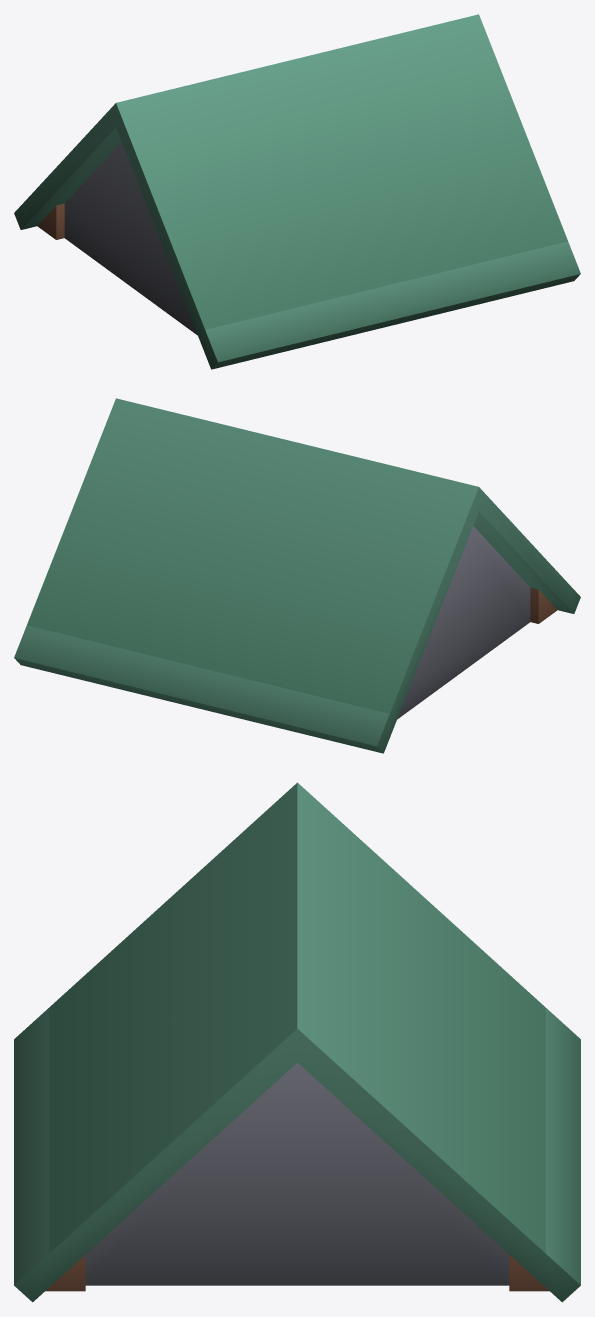
The model's file is roof-gable.glb.
3 views of the same model, one above another, from view 1: azimuth 30°, elevation 25°; view 2: azimuth 150°, elevation 25°; view 3: azimuth 270°, elevation 25° (orthographic). The views are drawn at different scales.
Parts seen in each view (by area): view 1: roof-gable; view 2: roof-gable; view 3: roof-gable.
Boxes of the visible parts, x1,y1,x2,y2 form: roof-gable: (14,14,580,369); roof-gable: (14,398,580,753); roof-gable: (14,782,580,1302).
Size of the model in its own units: 3.3 by 1.71 by 3.21.
